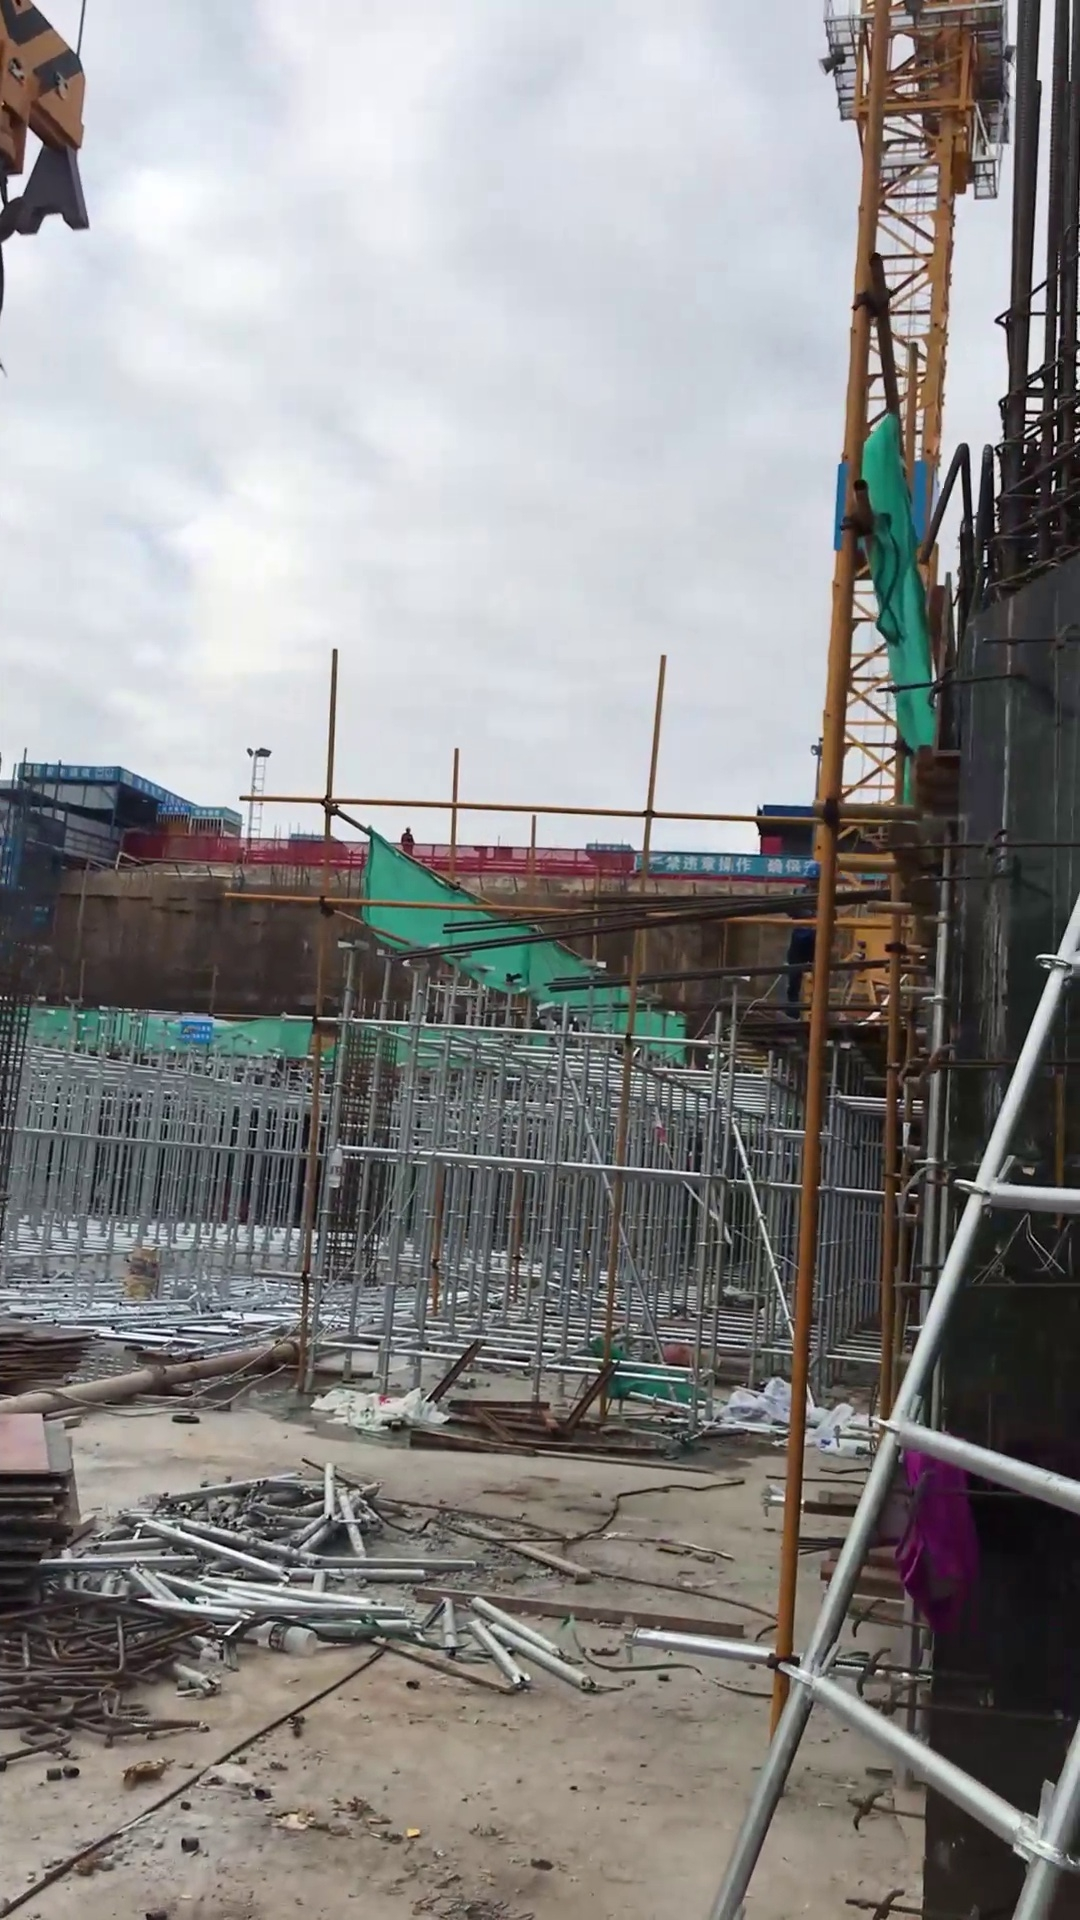board: (1, 1312, 91, 1615)
helmet: (805, 861, 822, 882)
hook: (1, 1, 97, 329)
person: (784, 859, 824, 1023)
slogan: (18, 759, 227, 817), (843, 911, 902, 1022), (637, 851, 821, 879), (178, 1013, 214, 1046)
